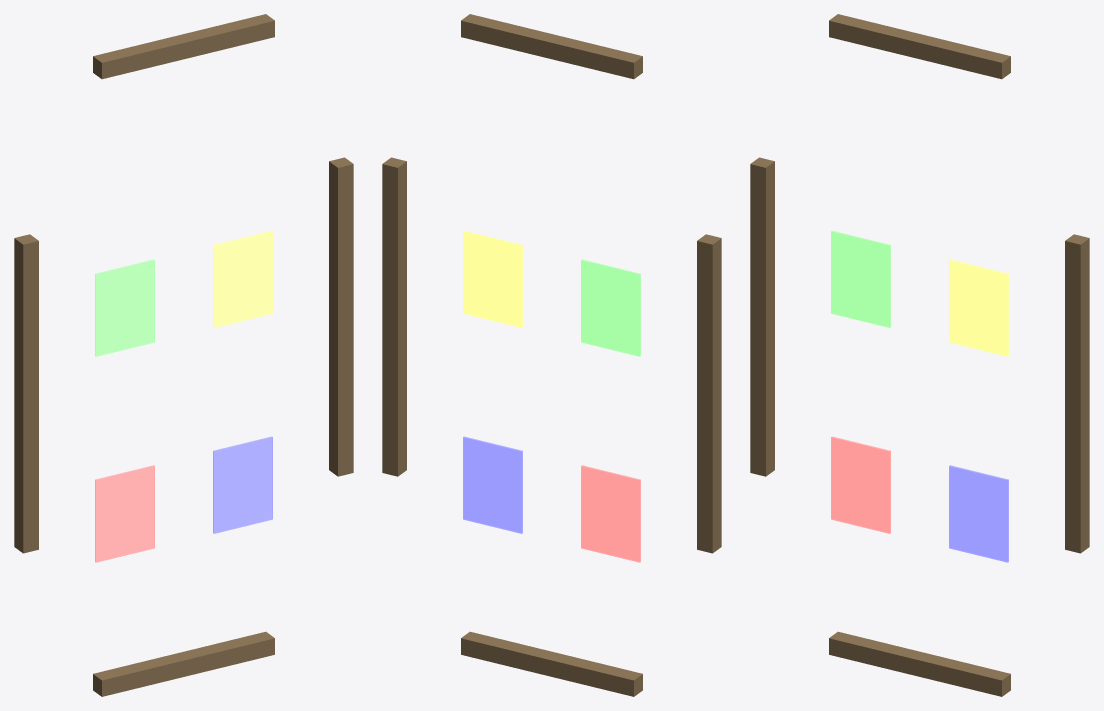
Rendered from stained_glass.glb.
3 renders of one model, left to right at view 1: azimuth 30°, elevation 25°; view 2: azimuth 150°, elevation 25°; view 3: azimuth 330°, elevation 25°, orthographic.
Parts seen in each view (by area): view 1: Cube, Cube.001, Cube.005, Cube.004, Cube.007, Cube.006, Cube.002, Cube.003; view 2: Cube, Cube.001, Cube.005, Cube.004, Cube.007, Cube.006, Cube.002, Cube.003; view 3: Cube, Cube.001, Cube.004, Cube.005, Cube.006, Cube.007, Cube.002, Cube.003.
Boxes of the visible parts, x1,y1,x2,y2 form: Cube: [14, 234, 38, 553]; Cube.001: [329, 157, 353, 476]; Cube.005: [213, 436, 272, 533]; Cube.004: [95, 465, 154, 562]; Cube.007: [213, 230, 272, 327]; Cube.006: [95, 259, 154, 356]; Cube.002: [93, 14, 274, 79]; Cube.003: [93, 631, 274, 696]; Cube: [697, 234, 721, 553]; Cube.001: [382, 157, 406, 476]; Cube.005: [463, 436, 522, 533]; Cube.004: [581, 465, 640, 562]; Cube.007: [463, 230, 522, 327]; Cube.006: [581, 259, 640, 356]; Cube.002: [461, 14, 642, 79]; Cube.003: [461, 631, 642, 696]; Cube: [750, 157, 774, 476]; Cube.001: [1065, 234, 1089, 553]; Cube.004: [831, 436, 890, 533]; Cube.005: [949, 465, 1008, 562]; Cube.006: [831, 230, 890, 327]; Cube.007: [949, 259, 1008, 356]; Cube.002: [829, 14, 1010, 79]; Cube.003: [829, 631, 1010, 696].
Size of the model in its own units: 0.84 by 1.54 by 0.04.
